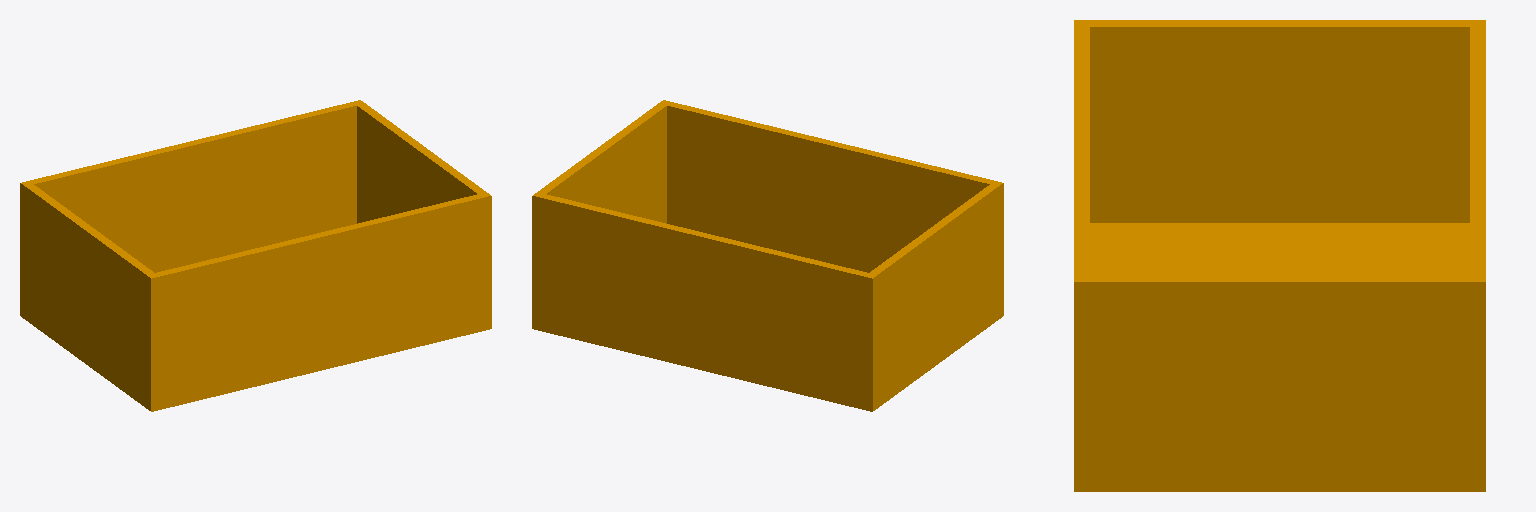
URDF robot description (clutch_container):
<robot
  name="clutch_container">
  <link name="clutch_container">
    <inertial>
      <origin xyz="0.0 0.0 0.0" rpy="0 0 0"/>
      <mass value="0.5"/>
      <inertia ixx="1" ixy="0.0" ixz="0.0" iyy="1" iyz="0.0" izz="1" />
    </inertial>

    <visual>
      <geometry>
        <mesh filename="../geometry/clutch/clutchSensor_container.stl" scale="1 1 1" />
      </geometry>
     </visual>

    <collision>
      <geometry>
        <mesh filename="../geometry/clutch/clutchSensor_container.stl" scale="1 1 1" />
      </geometry>
    </collision>

  </link>
</robot>

--- What the picture shows (computed from the rendered views, not written in the file) ---
Views: 3 orthographic renders of the robot side by side, from view 1: azimuth 30°, elevation 25°; view 2: azimuth 150°, elevation 25°; view 3: azimuth 270°, elevation 25°.
Robot: clutch_container — 1 links, 0 joints (none); root link clutch_container; default pose: all joints at 0.
Visible links, largest first — view 1: clutch_container; view 2: clutch_container; view 3: clutch_container.
Boxes of the visible links, left/top/right/bottom form: clutch_container: left=20, top=100, right=491, bottom=411; clutch_container: left=532, top=100, right=1003, bottom=411; clutch_container: left=1074, top=20, right=1485, bottom=491.
Bounding box of the posed robot: 0.6 × 0.4 × 0.225 m (x, y, z).
1 mesh visuals loaded from 1 distinct referenced files (1 binary STL).